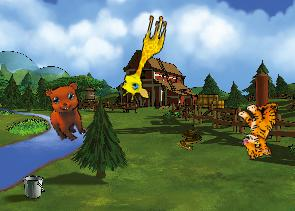bear: (37, 76, 99, 146)
giraffe: (118, 10, 169, 104)
tiger: (231, 96, 290, 161)
